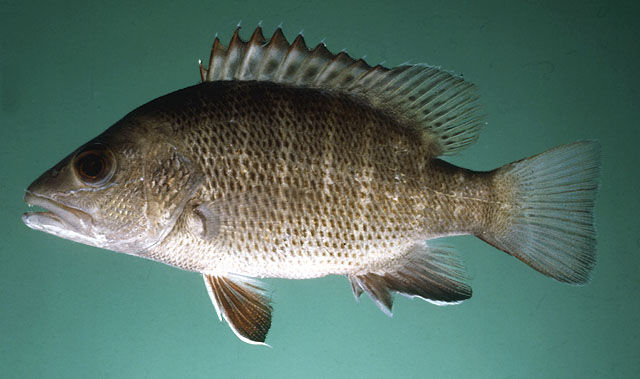fish: (23, 19, 603, 348)
